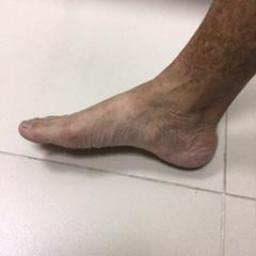Medial View -Right Foot-: (15, 34, 241, 174)
